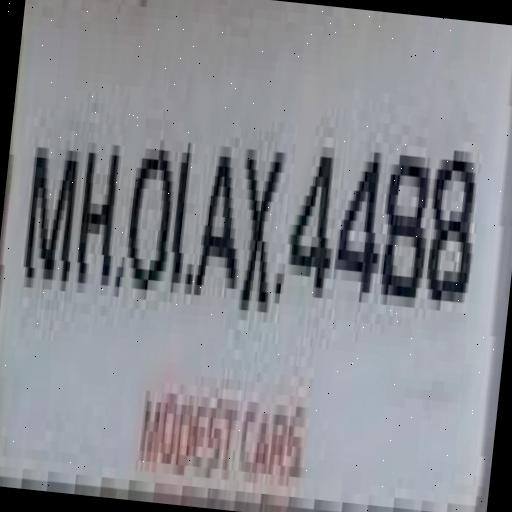number plate: (7, 0, 512, 487)
